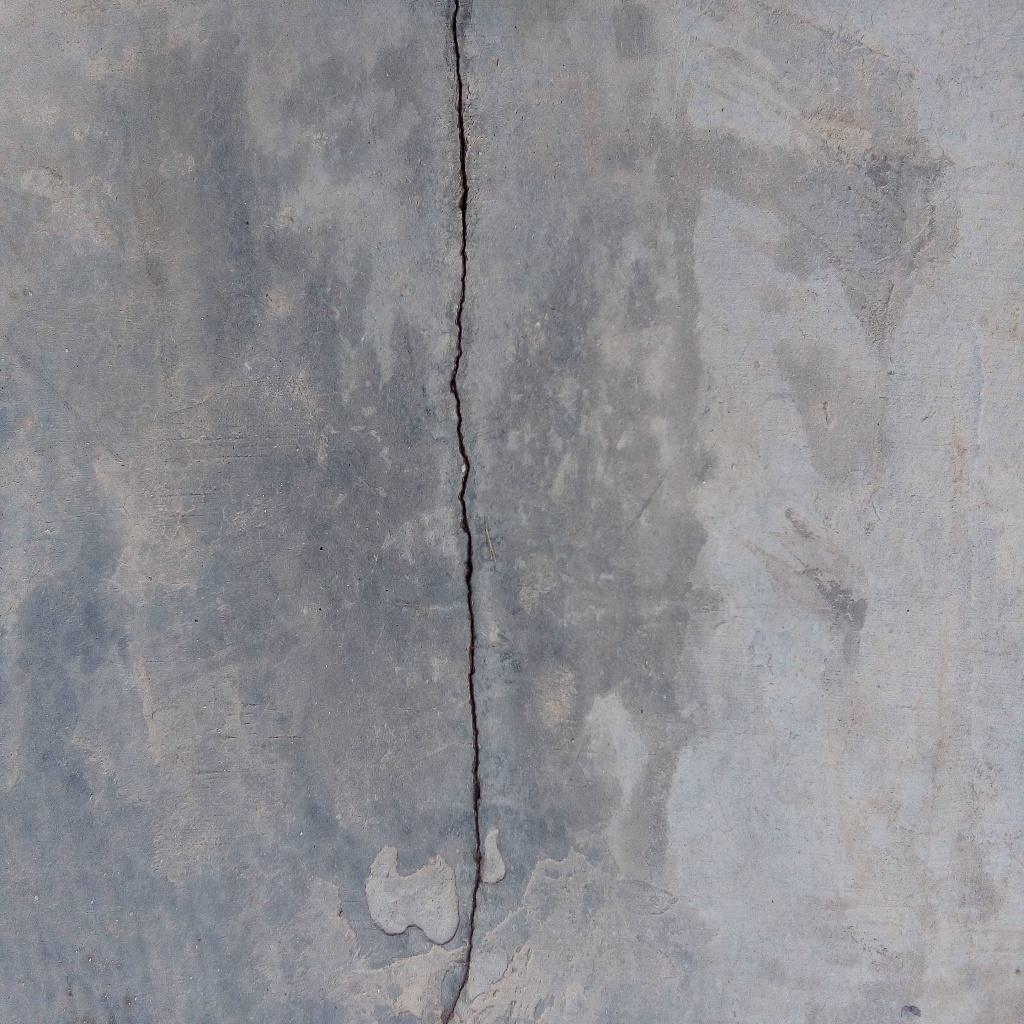Crack: (440, 1, 482, 1024)
